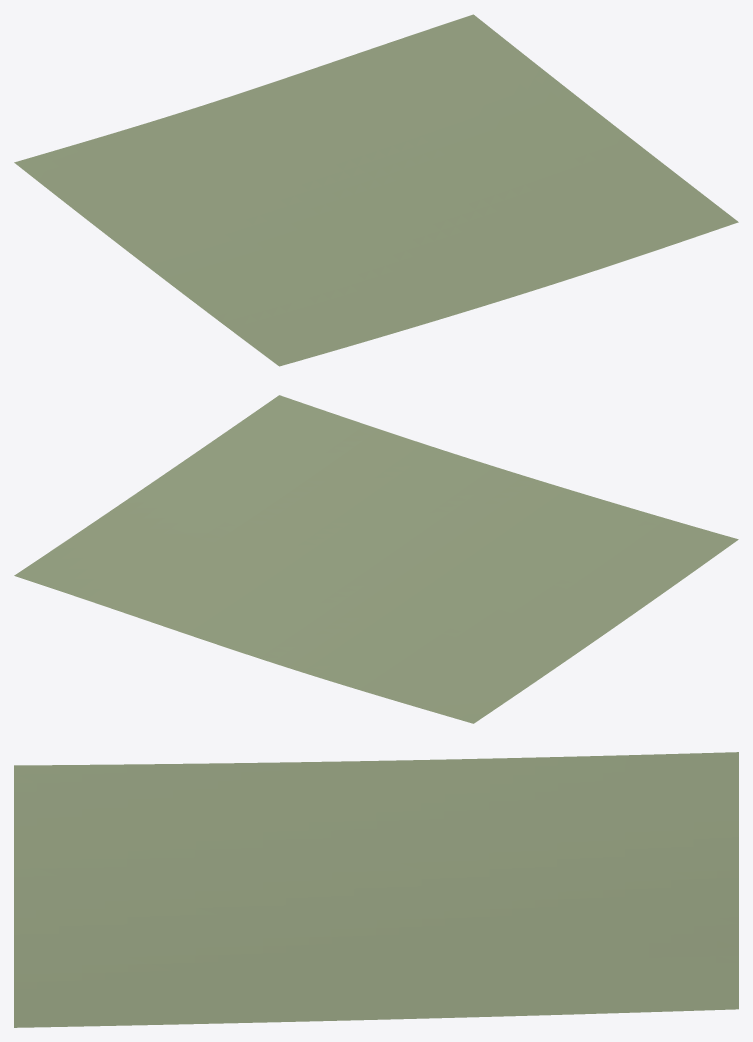
The model's file is desert-10-20.glb.
3 renders of one model, top to bottom at view 1: azimuth 30°, elevation 25°; view 2: azimuth 150°, elevation 25°; view 3: azimuth 270°, elevation 25°, orthographic. The views are drawn at different scales.
Parts seen in each view (by area): view 1: desert-10-20; view 2: desert-10-20; view 3: desert-10-20.
Part boxes in pixels (x1,y1,x2,y2): desert-10-20: (14, 14, 738, 366); desert-10-20: (14, 395, 738, 723); desert-10-20: (14, 752, 738, 1027).
Size of the model in its own units: 512 by 48.68 by 512.
